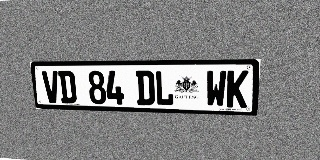4: (105, 71, 124, 105)
8: (87, 71, 107, 104)
D: (136, 70, 155, 105), (58, 71, 77, 103)
K: (226, 70, 249, 108)
L: (155, 70, 174, 106)
V: (42, 71, 61, 103)
W: (205, 70, 227, 107)
